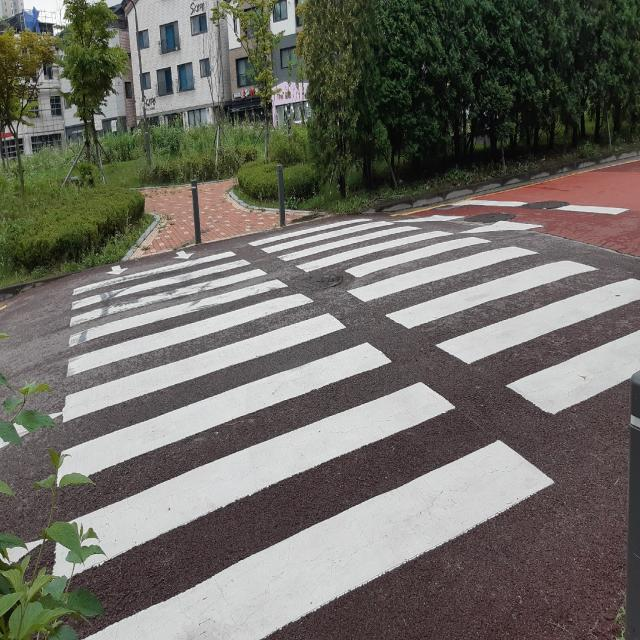횡단보도: (53, 219, 640, 639)
